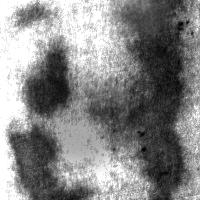patches: (125, 1, 187, 195), (31, 69, 129, 167), (9, 122, 84, 198), (21, 40, 68, 119), (108, 0, 174, 43), (9, 1, 49, 28)
